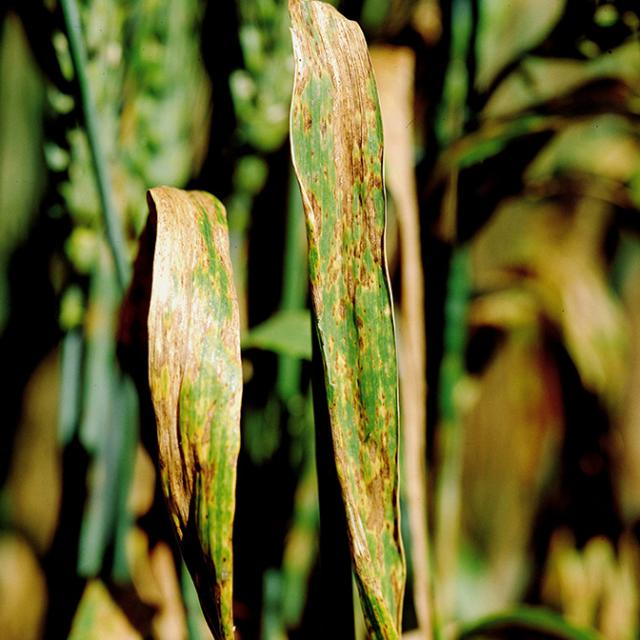wheat-septoria: (288, 0, 407, 640), (147, 186, 243, 640)
